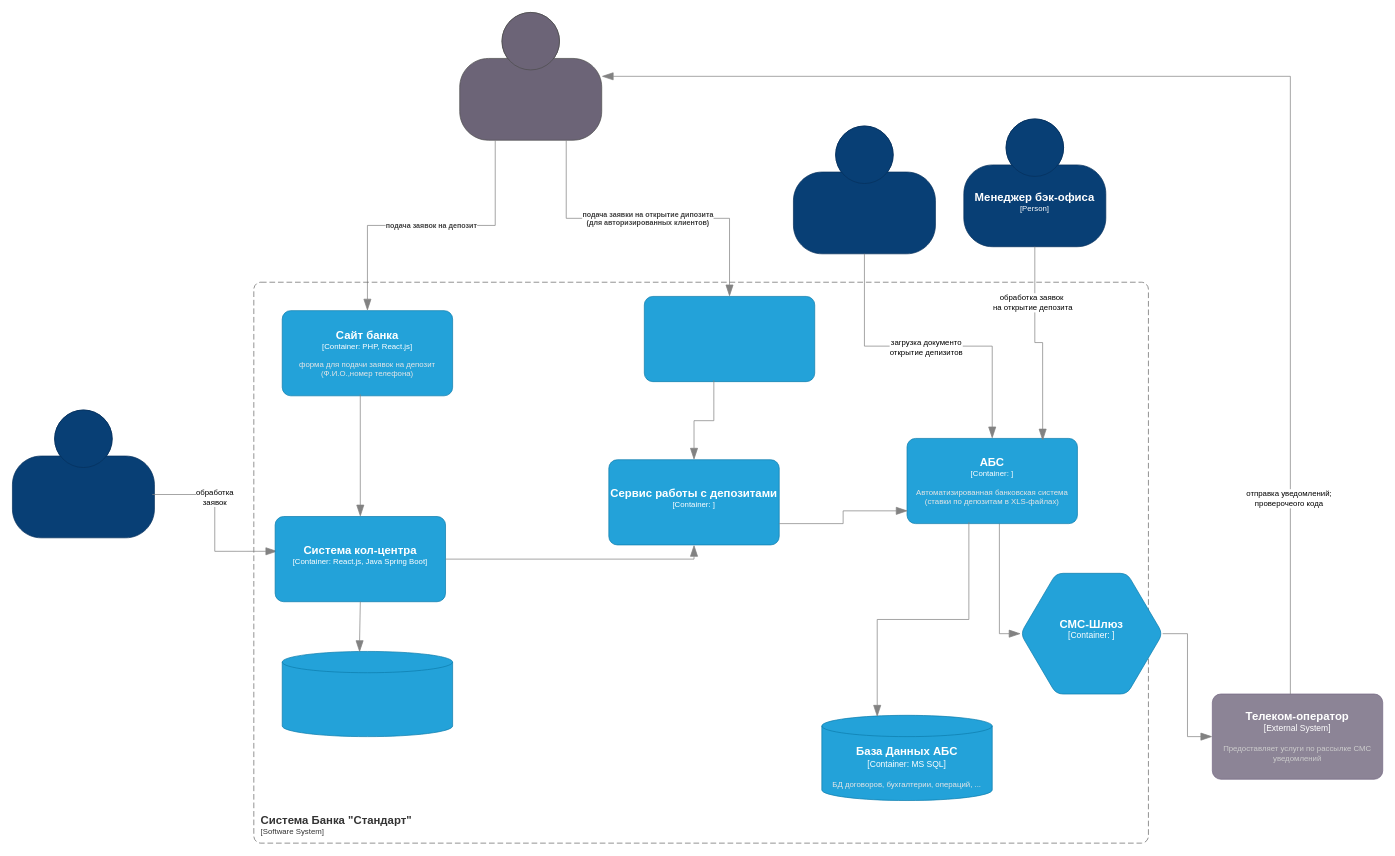
This 1395x856 diagram has some shape labels left out. The shapes that lost their labels are listed below. From the top down, each one's centre as x and y in pixels, then its label:
At [530,76]: "Клиент банка [Person]".
At [864,189]: "Менеджер отделения банка [Person]".
At [729,339]: "Интернет-банк [Container: ASP.NET MVC 4.5, .NET Framework 4.5]".
At [83,473]: "Менеджер кол-центра [Person]".
At [367,694]: "База Данных [Container: PostgreSQL] БД заявок".
